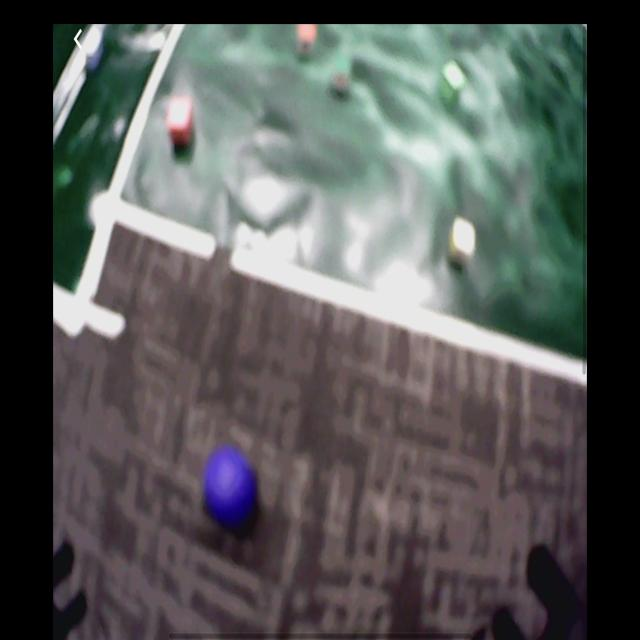ball: (202, 446, 258, 525)
